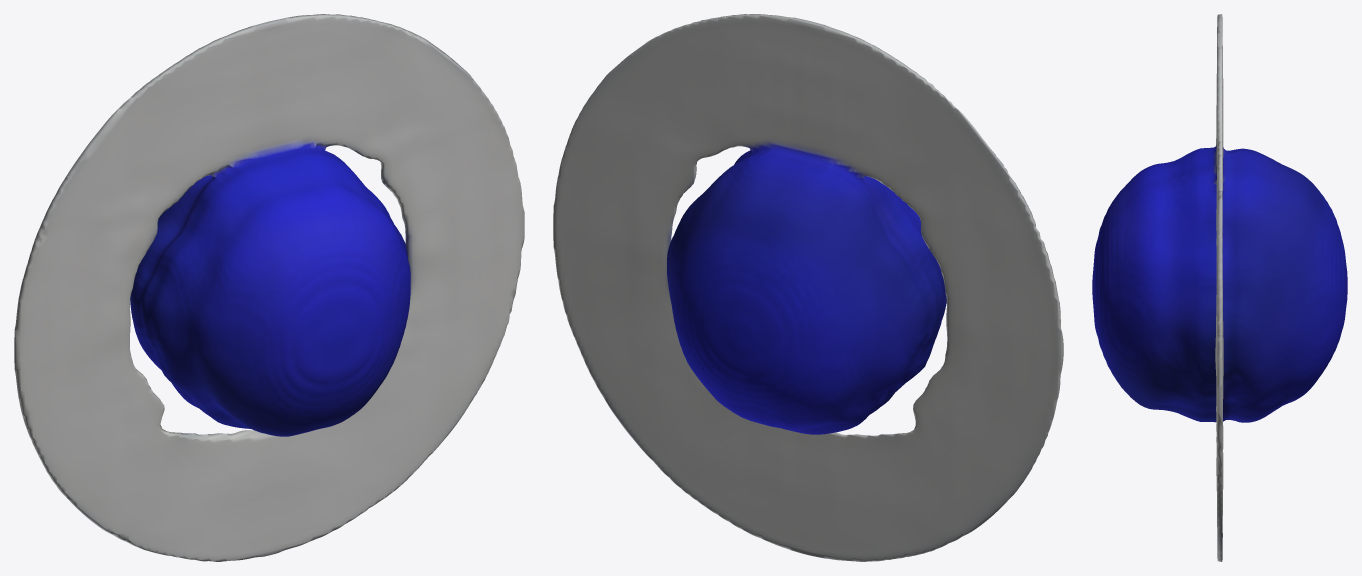
File: A_platupus.FBX
3 renders of one model, left to right at view 1: azimuth 30°, elevation 25°; view 2: azimuth 150°, elevation 25°; view 3: azimuth 270°, elevation 25°, orthographic. The views are drawn at different scales.
Parts seen in each view (by area): view 1: plyFile; view 2: plyFile; view 3: plyFile.
Boxes of the visible parts, x1,y1,x2,y2 form: plyFile: (14, 14, 524, 561); plyFile: (553, 14, 1063, 561); plyFile: (1092, 14, 1347, 561).
Size of the model in its own units: 197 by 197 by 91.82.
